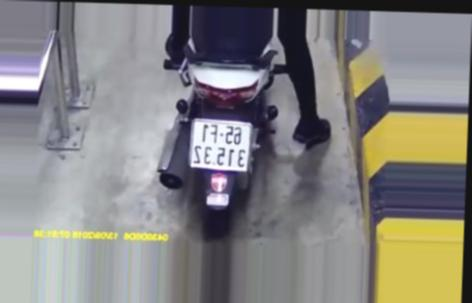License_Plate: (186, 117, 258, 178)
